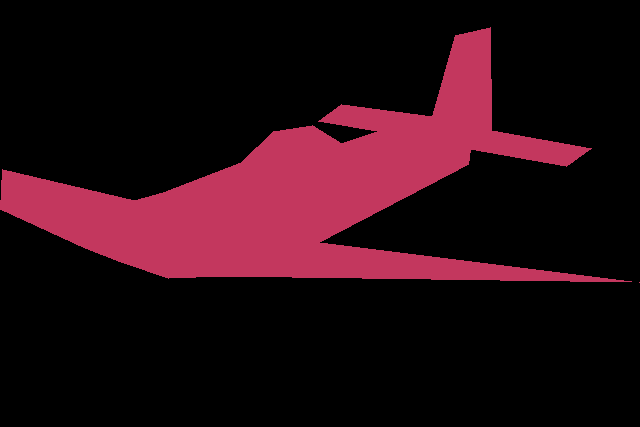Airplane: (0, 27, 639, 283)
